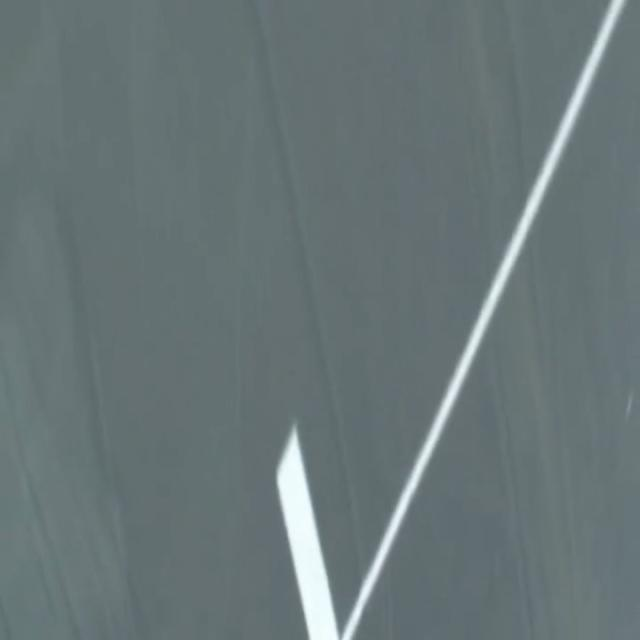center: (276, 425, 339, 639)
